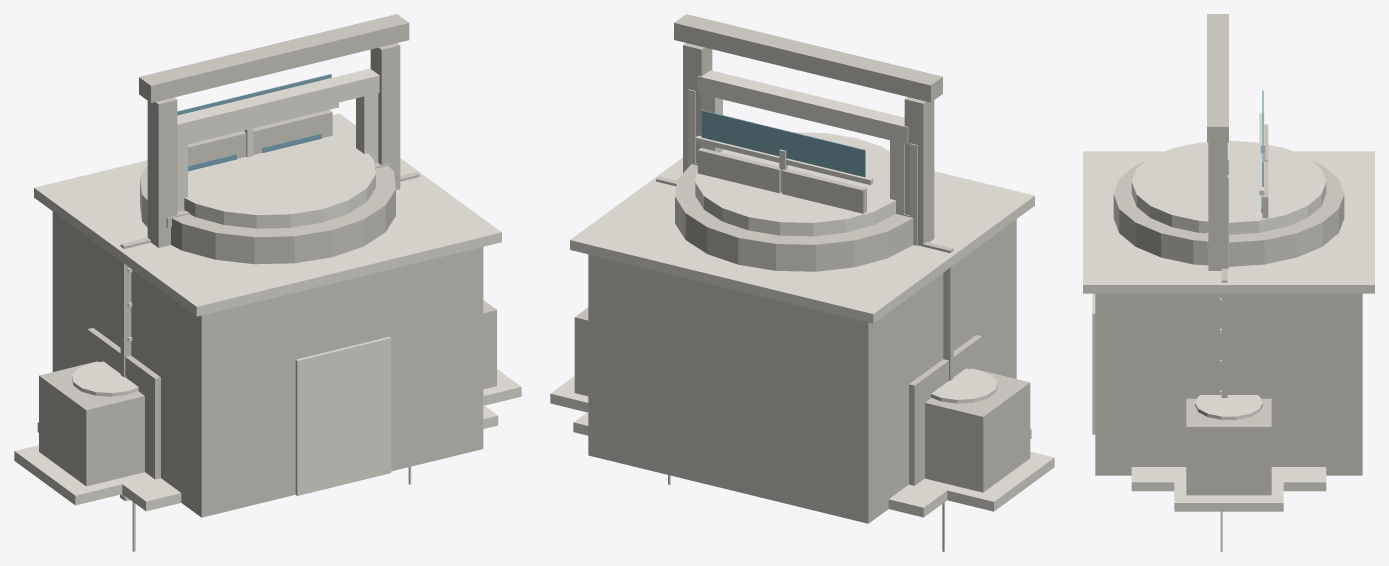
The model's file is midrise-kit.glb.
The picture shows the model from 3 angles, left to right: view 1: azimuth 30°, elevation 25°; view 2: azimuth 150°, elevation 25°; view 3: azimuth 270°, elevation 25°; orthographic projection. The views are drawn at different scales.
Parts seen in each view (by area): view 1: roof_stair_core_01__core, roof_stair_core_01__slab, roof_stair_core_01__door, roof_water_tank_03__lid, roof_ac_row_02__unit, roof_water_tank_03__tank, loggia_piers_bars_03__slab_top, lobby_door_framed_pair_03__head, loggia_piers_bars_03__pier, roof_ac_mixed_05__unit, roof_ac_row_02__rack, loggia_piers_bars_03__pier.001 (+10 smaller); view 2: roof_stair_core_01__core, roof_stair_core_01__slab, roof_water_tank_03__tank, roof_ac_row_02__unit, roof_water_tank_03__lid, loggia_piers_bars_03__slab_top, lobby_door_framed_pair_03__head, lobby_door_framed_pair_03__transom, loggia_piers_bars_03__pier, roof_ac_row_02__rack, roof_ac_mixed_05__unit, lobby_door_framed_pair_03__leaf (+10 smaller); view 3: roof_stair_core_01__core, roof_stair_core_01__slab, roof_water_tank_03__lid, roof_water_tank_03__tank, roof_ac_row_02__unit.003, loggia_piers_bars_03__slab_top, roof_ac_row_02__rack, loggia_piers_bars_03__pier.001, roof_ac_mixed_05__plinth, roof_ac_row_02__fan.003, window_shuttered_05__shutter.001, roof_stair_core_01__door (+1 smaller).
Part boxes in pixels (left/top/right/bottom): roof_stair_core_01__core: left=52, top=211, right=483, bottom=517; roof_stair_core_01__slab: left=34, top=113, right=501, bottom=316; roof_stair_core_01__door: left=295, top=337, right=391, bottom=495; roof_water_tank_03__lid: left=184, top=133, right=375, bottom=228; roof_ac_row_02__unit: left=39, top=361, right=144, bottom=486; roof_water_tank_03__tank: left=140, top=165, right=395, bottom=264; loggia_piers_bars_03__slab_top: left=139, top=14, right=409, bottom=102; lobby_door_framed_pair_03__head: left=177, top=68, right=379, bottom=141; loggia_piers_bars_03__pier: left=147, top=97, right=177, bottom=247; roof_ac_mixed_05__unit: left=87, top=328, right=160, bottom=479; roof_ac_row_02__rack: left=14, top=369, right=521, bottom=505; loggia_piers_bars_03__pier.001: left=370, top=43, right=400, bottom=189; roof_stair_core_01__core: left=588, top=219, right=1016, bottom=523; roof_stair_core_01__slab: left=570, top=157, right=1034, bottom=323; roof_water_tank_03__tank: left=675, top=164, right=913, bottom=271; roof_ac_row_02__unit: left=925, top=368, right=1030, bottom=492; roof_water_tank_03__lid: left=695, top=132, right=895, bottom=236; loggia_piers_bars_03__slab_top: left=674, top=14, right=942, bottom=102; lobby_door_framed_pair_03__head: left=697, top=70, right=908, bottom=144; lobby_door_framed_pair_03__transom: left=701, top=110, right=865, bottom=177; loggia_piers_bars_03__pier: left=904, top=97, right=934, bottom=246; roof_ac_row_02__rack: left=550, top=376, right=1054, bottom=511; roof_ac_mixed_05__unit: left=909, top=335, right=981, bottom=485; lobby_door_framed_pair_03__leaf: left=781, top=168, right=866, bottom=213; roof_stair_core_01__core: left=1095, top=293, right=1362, bottom=475; roof_stair_core_01__slab: left=1083, top=151, right=1374, bottom=293; roof_water_tank_03__lid: left=1131, top=140, right=1326, bottom=234; roof_water_tank_03__tank: left=1113, top=160, right=1344, bottom=266; roof_ac_row_02__unit.003: left=1186, top=398, right=1271, bottom=495; loggia_piers_bars_03__slab_top: left=1207, top=14, right=1228, bottom=142; roof_ac_row_02__rack: left=1174, top=467, right=1283, bottom=511; loggia_piers_bars_03__pier.001: left=1208, top=142, right=1227, bottom=270; roof_ac_mixed_05__plinth: left=1131, top=467, right=1326, bottom=491; roof_ac_row_02__fan.003: left=1195, top=395, right=1262, bottom=419; window_shuttered_05__shutter.001: left=1221, top=268, right=1227, bottom=397; roof_stair_core_01__door: left=1092, top=293, right=1095, bottom=434.
Size of the model in its own units: 3.8 by 3.82 by 2.4.
